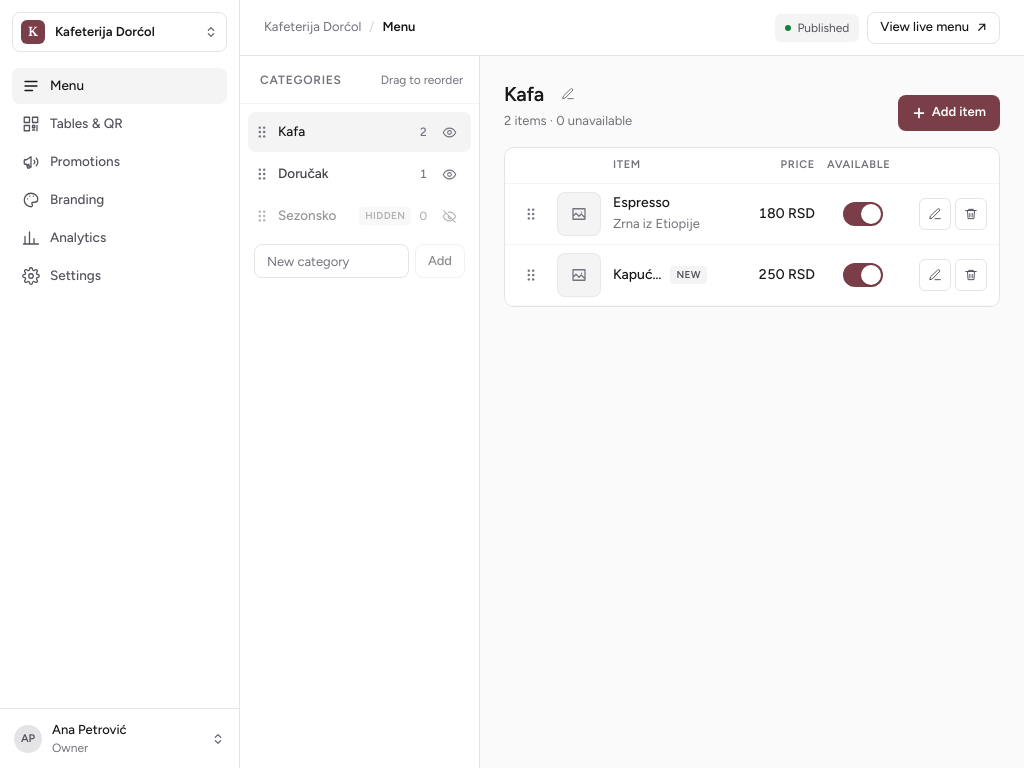
menu editor (desktop) › switches the item list when another category is picked
Click the text "Doručak".
click(303, 173)  # box [278,165,328,181]
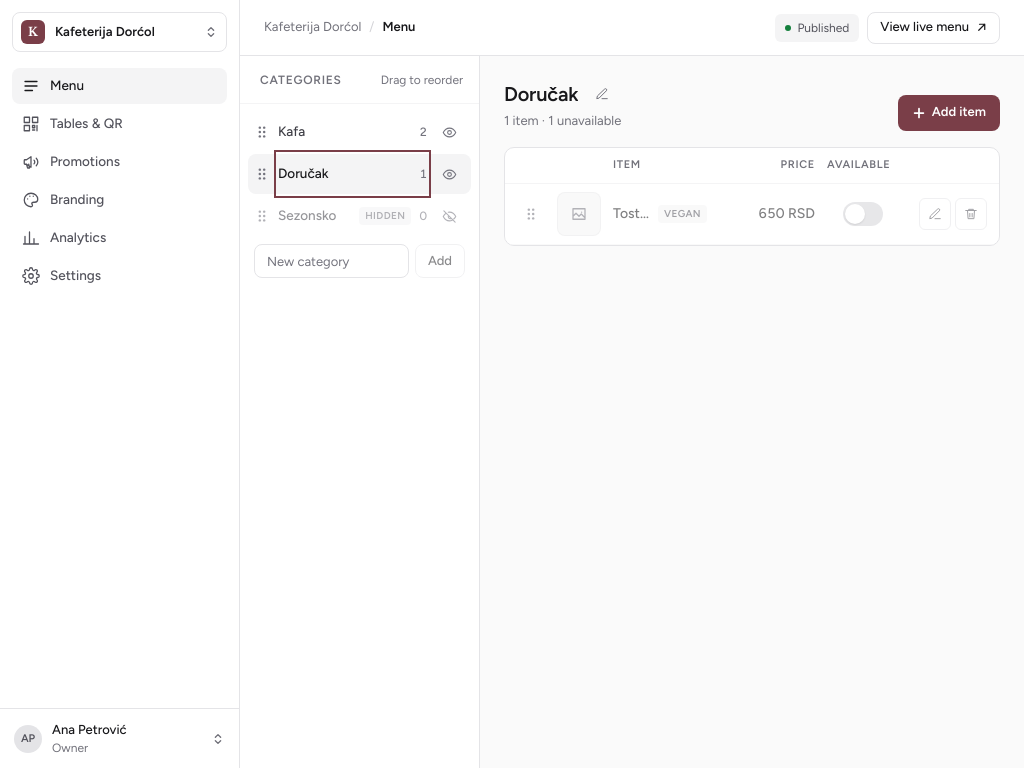
Check: the text "Tost sa avokadom" is shown, box [613,204,650,224]
Check: the text "1 item · 1 unavailable" is shown, box [504,112,621,131]
